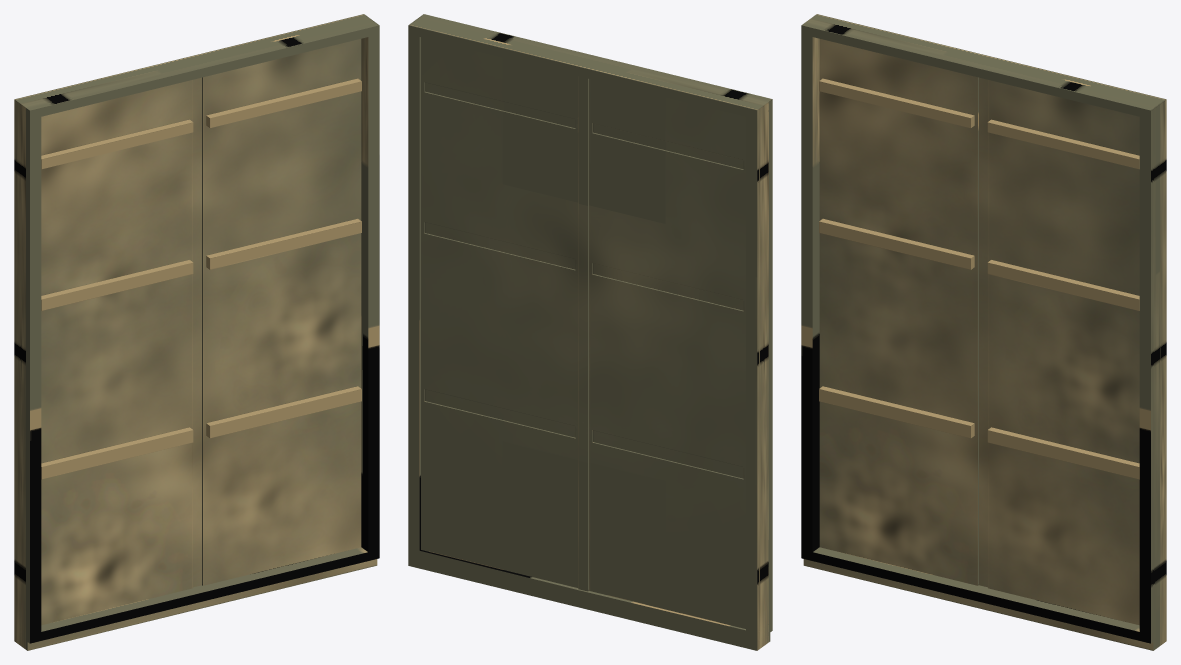
File: Door 1.fbx
3 views of the same model, side by side, from view 1: azimuth 30°, elevation 25°; view 2: azimuth 150°, elevation 25°; view 3: azimuth 330°, elevation 25° (orthographic).
Visible parts, largest first — view 1: Door, DoorFrame; view 2: Door, DoorFrame; view 3: Door, DoorFrame.
Part boxes in pixels (x1,y1,x2,y2): Door: [41, 39, 361, 625]; DoorFrame: [14, 14, 379, 650]; Door: [421, 37, 745, 628]; DoorFrame: [408, 14, 772, 650]; Door: [819, 39, 1139, 625]; DoorFrame: [801, 14, 1166, 650].
Size of the model in its own units: 266 by 394 by 20.36.
